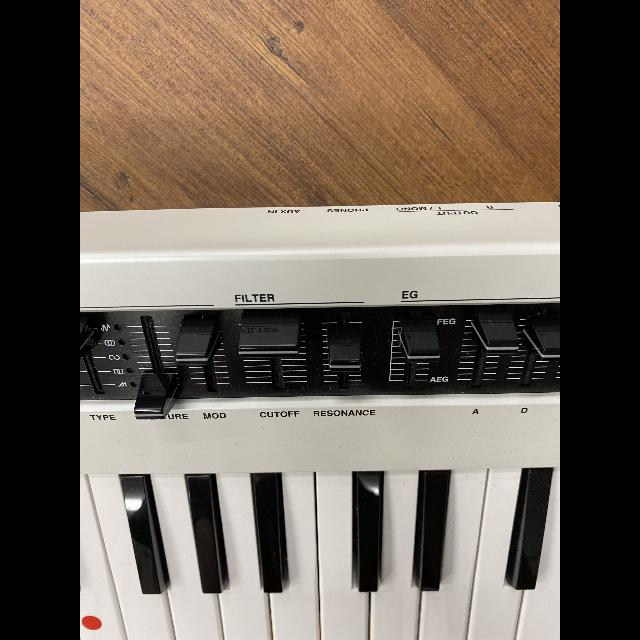Electronic-Keyboard: (80, 199, 560, 640)
